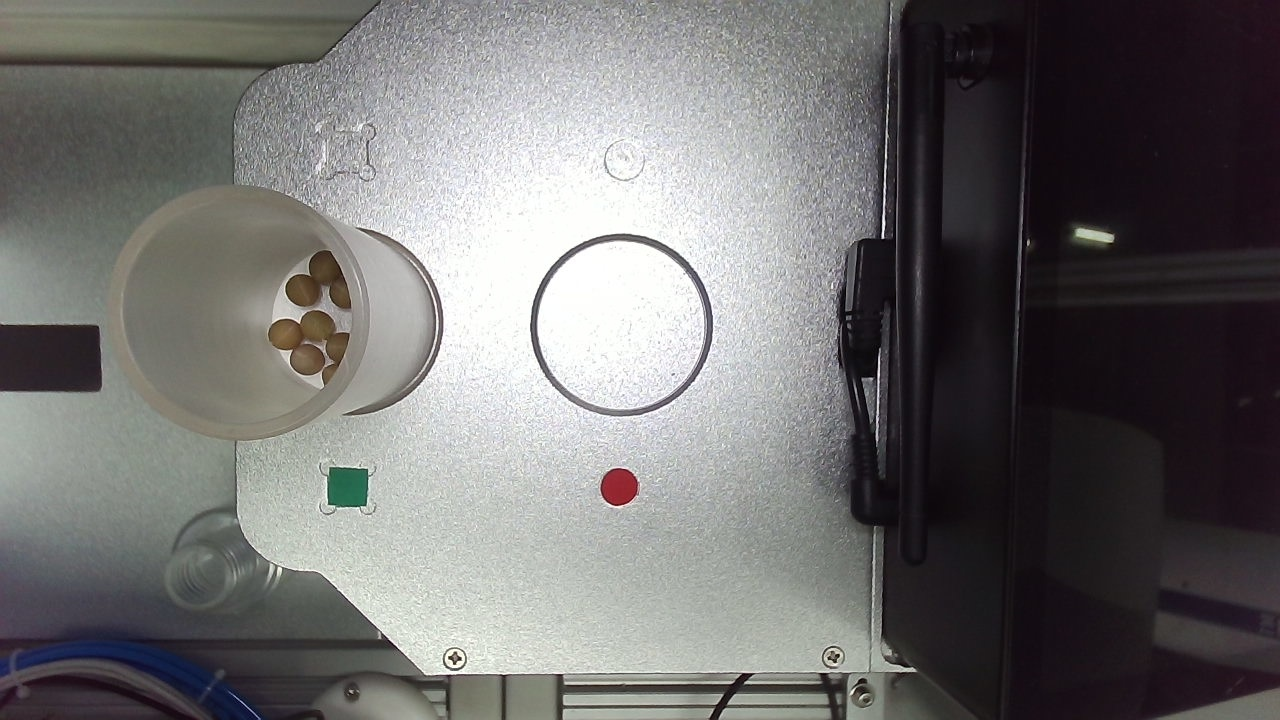XLabel: (588, 300, 618, 332)
YLabel: (366, 297, 402, 332)
none: (296, 372, 463, 532)
transparenexcept: (497, 368, 712, 581)
